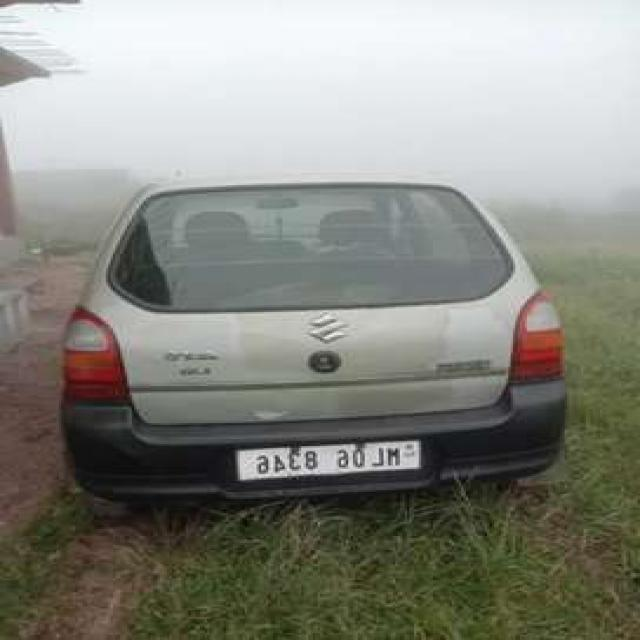license_plate: (223, 433, 430, 495)
